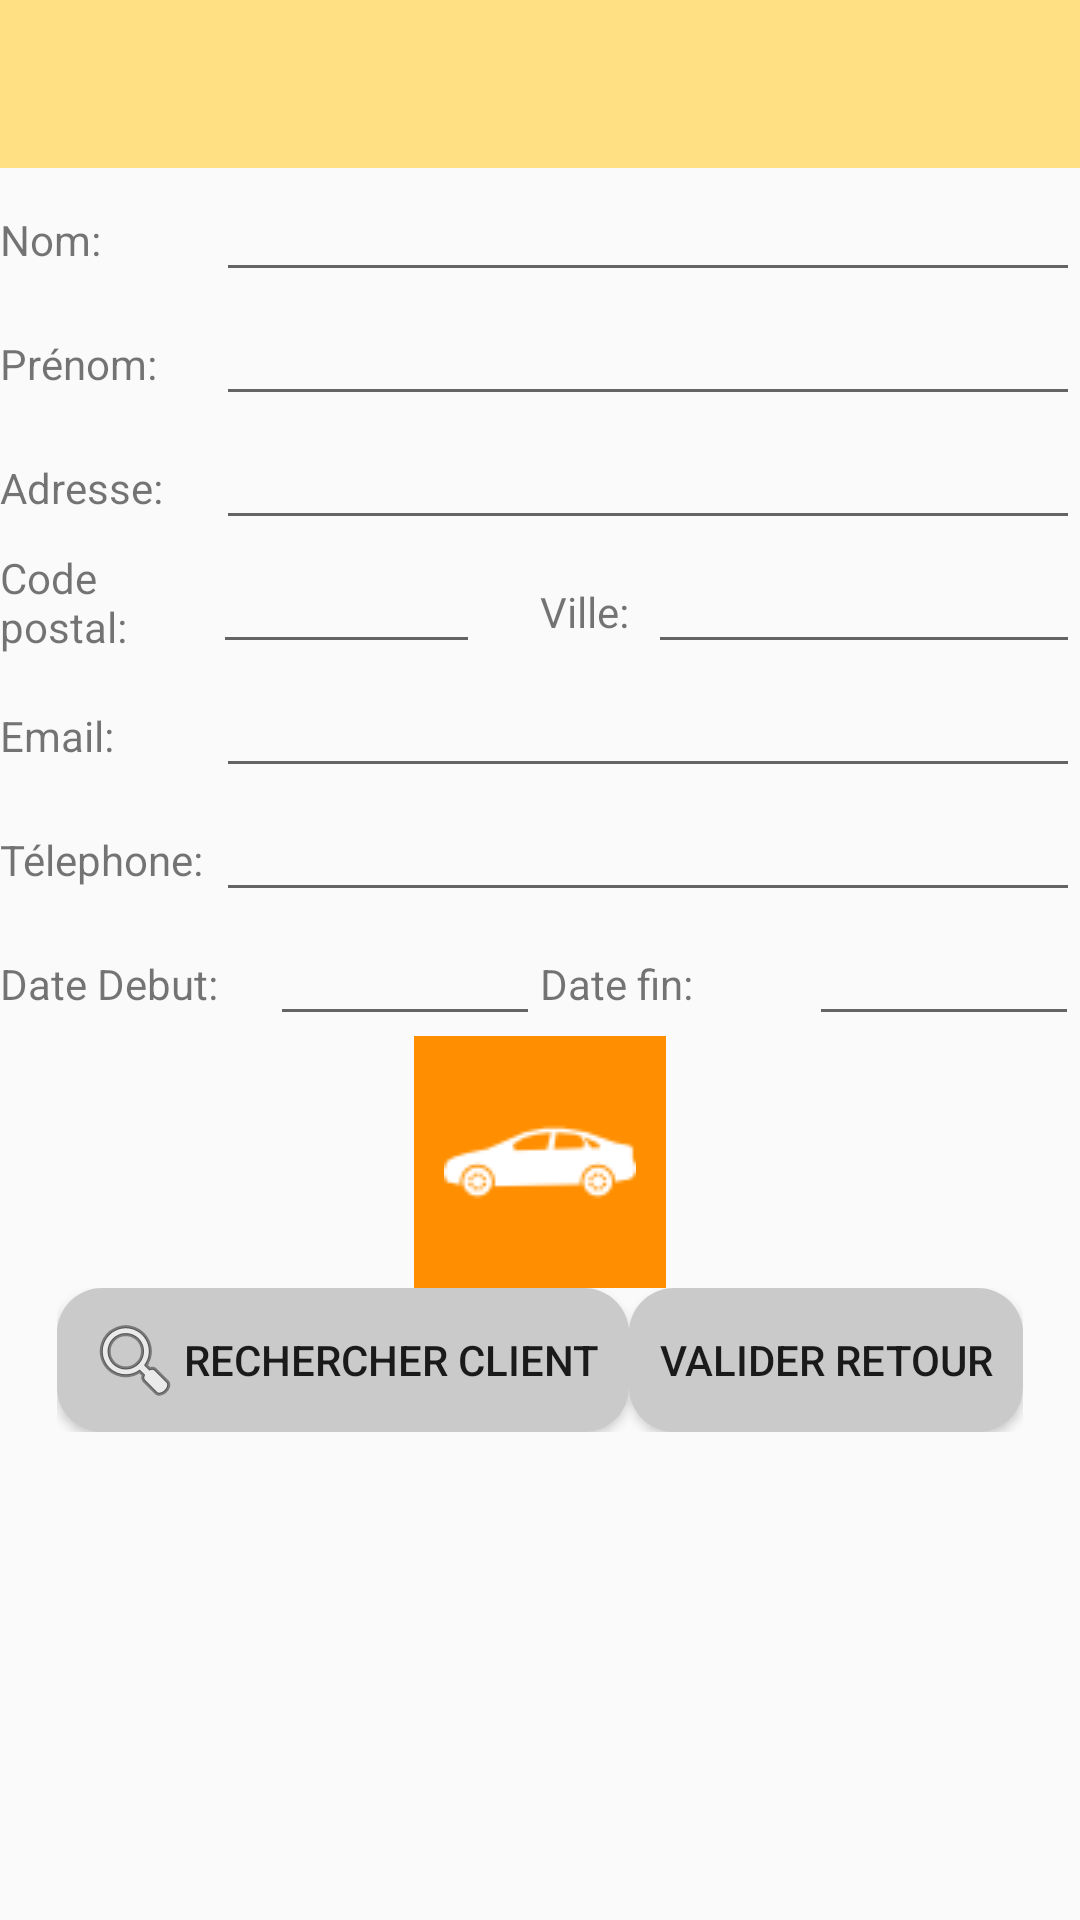

Named icons in this screenshot (1080*1920) and their centers, point (x, y):
car model: point (540, 1162)
